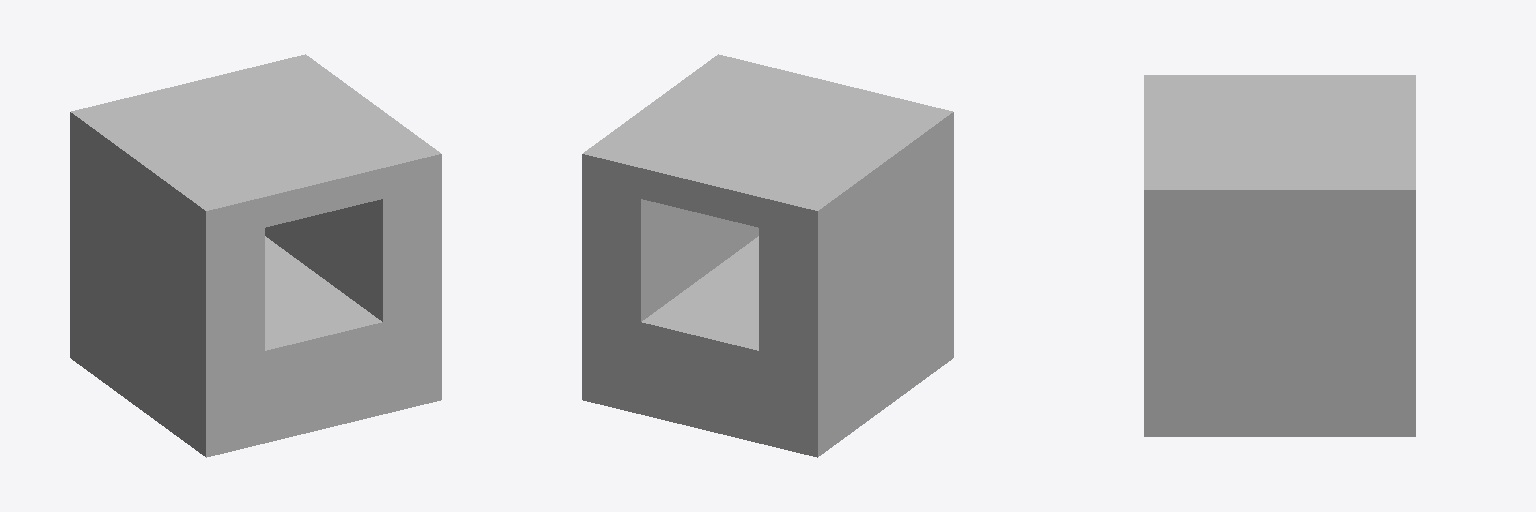
The picture shows the model from 3 angles: view 1: azimuth 30°, elevation 25°; view 2: azimuth 150°, elevation 25°; view 3: azimuth 270°, elevation 25°; orthographic projection.
Parts seen in each view (by area): view 1: 2_Cube.008; view 2: 2_Cube.008; view 3: 2_Cube.008.
Part boxes in pixels (x1,y1,x2,y2): 2_Cube.008: (70, 54, 441, 457); 2_Cube.008: (582, 54, 953, 457); 2_Cube.008: (1144, 75, 1415, 436).
Bounding box in the file's own units: 2 × 2 × 2.